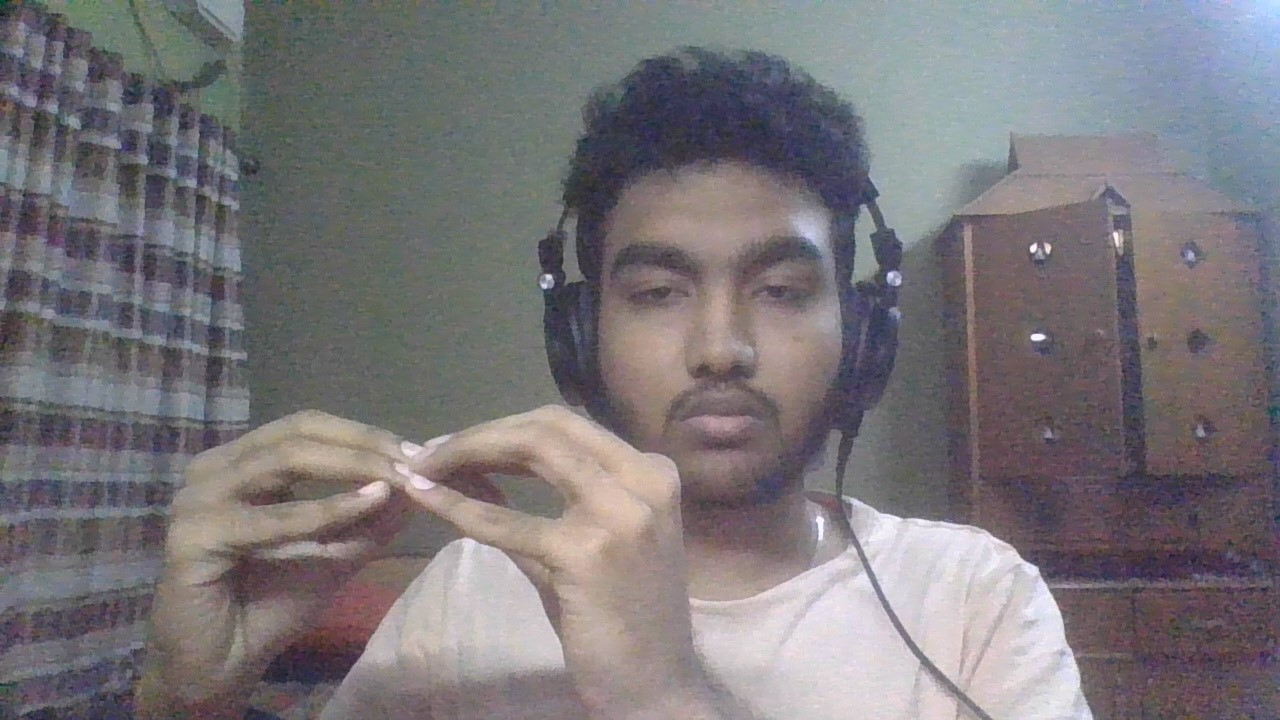More: (134, 396, 709, 720)
